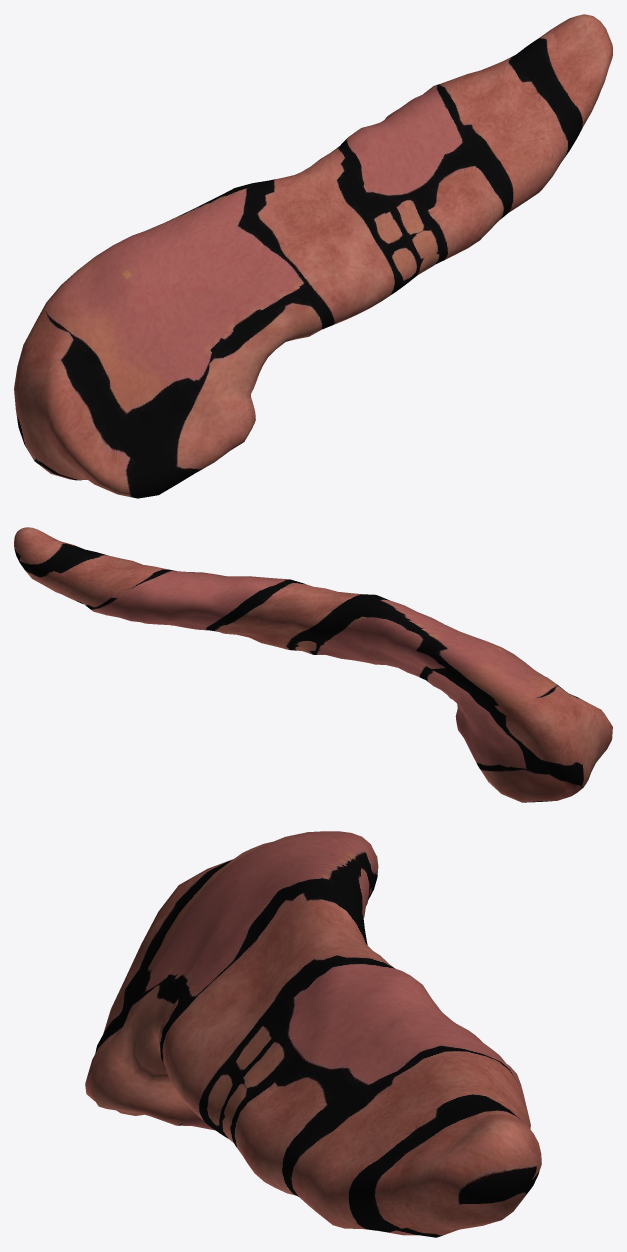
Rendered from Endocrine.Pancreas.Pancreas.obj.
3 renders of one model, top to bottom at view 1: azimuth 30°, elevation 25°; view 2: azimuth 150°, elevation 25°; view 3: azimuth 270°, elevation 25°, orthographic. The views are drawn at different scales.
Parts seen in each view (by area): view 1: Endocrine:Pancreas:Pancreas_Pancreas.002; view 2: Endocrine:Pancreas:Pancreas_Pancreas.002; view 3: Endocrine:Pancreas:Pancreas_Pancreas.002.
Part boxes in pixels (x1,y1,x2,y2): Endocrine:Pancreas:Pancreas_Pancreas.002: (14,14,612,498); Endocrine:Pancreas:Pancreas_Pancreas.002: (14,527,612,802); Endocrine:Pancreas:Pancreas_Pancreas.002: (85,831,541,1237).
Bounding box in the file's own units: 0.5818 × 0.2257 × 0.2233.
